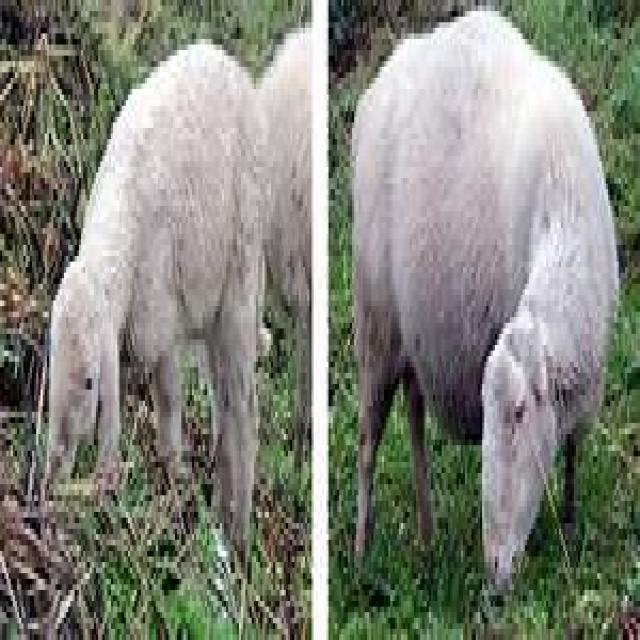sheep: (348, 6, 618, 601), (43, 22, 309, 579)
